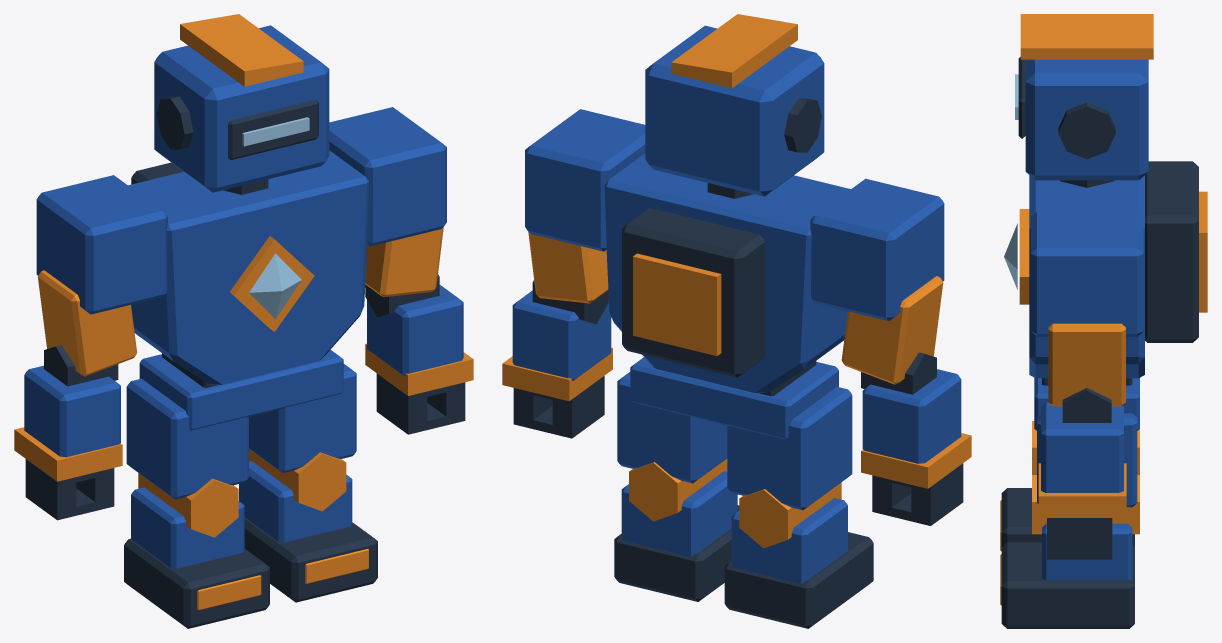
3 views of the same model, side by side, from view 1: azimuth 30°, elevation 25°; view 2: azimuth 150°, elevation 25°; view 3: azimuth 270°, elevation 25° (orthographic). The views are drawn at different scales.
Visible parts, largest first — view 1: Tronco, Cabeça de avatar, Ombro, Ombro.001, Coxa.001, Quadril, Bota.001, Antebraço.001, Coxa, Antebraço, Braço.001, Bota (+19 smaller); view 2: Tronco, Cabeça de avatar, Ombro, Mochila, Ombro.001, Coxa.001, Quadril, Painel da mochila, Bota.001, Antebraço.001, Coxa, Braço.001 (+15 smaller); view 3: Ombro.001, Cabeça de avatar, Mochila, Bota, Antebraço, Crista do capacete, Braço, Tronco, Canela, Mão de avatar.001, Conector lateral.001, Punho.001 (+10 smaller).
Part boxes in pixels (<box>): Tronco: <box>128,150,368,384</box>; Cabeça de avatar: <box>154,25,329,192</box>; Ombro: <box>36,175,167,314</box>; Ombro.001: <box>329,107,446,246</box>; Coxa.001: <box>126,378,248,499</box>; Quadril: <box>139,350,343,430</box>; Bota.001: <box>124,538,269,628</box>; Antebraço.001: <box>24,365,120,457</box>; Coxa: <box>249,364,356,472</box>; Antebraço: <box>367,285,463,376</box>; Braço.001: <box>38,270,137,376</box>; Bota: <box>244,517,377,602</box>; Tronco: <box>604,153,850,393</box>; Cabeça de avatar: <box>645,25,824,196</box>; Ombro: <box>810,178,944,320</box>; Mochila: <box>622,208,765,377</box>; Ombro.001: <box>525,109,645,251</box>; Coxa.001: <box>727,386,852,510</box>; Quadril: <box>630,357,838,439</box>; Painel da mochila: <box>633,253,721,355</box>; Bota.001: <box>724,532,873,628</box>; Antebraço.001: <box>862,369,961,463</box>; Coxa: <box>617,372,727,483</box>; Braço.001: <box>841,276,943,384</box>; Ombro.001: <box>1030,212,1143,336</box>; Cabeça de avatar: <box>1025,59,1148,180</box>; Mochila: <box>1145,161,1198,342</box>; Bota: <box>1001,542,1134,628</box>; Antebraço: <box>1041,402,1123,492</box>; Crista do capacete: <box>1020,14,1153,59</box>; Braço: <box>1048,323,1125,406</box>; Tronco: <box>1029,175,1144,378</box>; Canela: <box>1042,523,1132,580</box>; Mão de avatar.001: <box>1047,518,1112,559</box>; Conector lateral.001: <box>1058,102,1115,158</box>; Punho.001: <box>1038,463,1126,517</box>.
Size of the model in its own units: 1.97 by 2.43 by 0.824.
